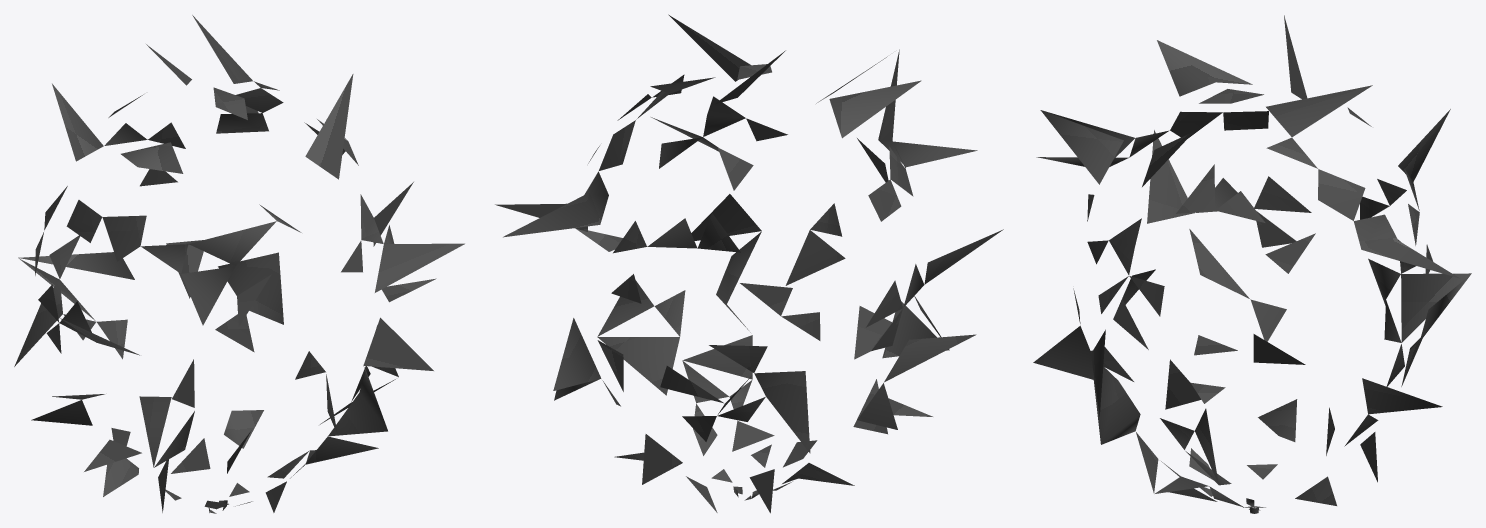
Rendered from BoomBalloon_POP.fbx.
3 renders of one model, left to right at view 1: azimuth 30°, elevation 25°; view 2: azimuth 150°, elevation 25°; view 3: azimuth 270°, elevation 25°, orthographic.
Parts seen in each view (by area): view 1: Balloon; view 2: Balloon; view 3: Balloon.
Part boxes in pixels (x1,y1,x2,y2): Balloon: [14, 15, 464, 513]; Balloon: [495, 14, 1003, 513]; Balloon: [1033, 15, 1471, 513].
Size of the model in its own units: 1386 by 1445 by 1223.
1 material, 1 textured.
